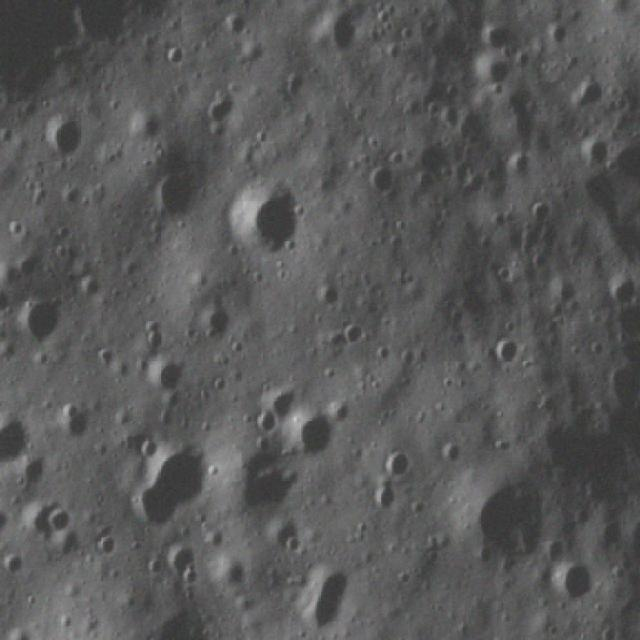crater: (221, 180, 299, 263), (127, 445, 210, 521), (286, 560, 362, 628), (8, 290, 64, 344), (550, 556, 608, 606), (38, 106, 79, 160), (284, 421, 341, 459), (557, 80, 598, 117), (168, 540, 201, 569), (212, 6, 246, 34), (608, 269, 634, 305), (95, 527, 122, 561), (385, 449, 410, 485), (578, 142, 608, 170), (368, 487, 395, 518), (50, 406, 82, 432), (501, 340, 532, 366), (523, 200, 551, 228), (39, 511, 67, 537), (141, 318, 162, 351), (253, 413, 278, 438), (339, 320, 359, 348), (157, 48, 178, 70), (505, 156, 533, 172), (483, 29, 506, 46), (371, 8, 392, 24)
